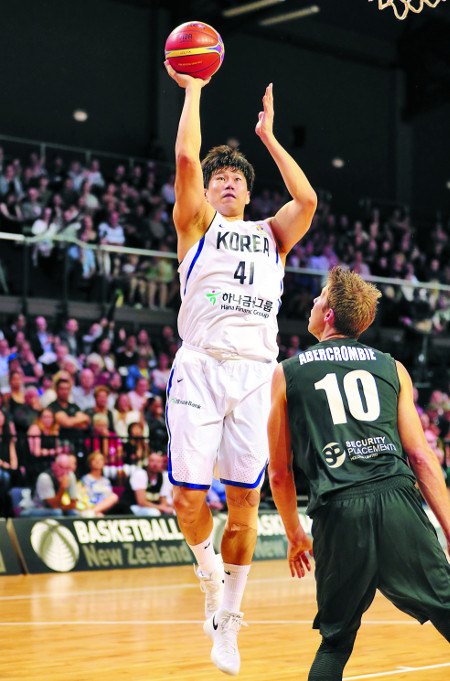shoot: (136, 15, 310, 673)
stand: (272, 266, 450, 681)
